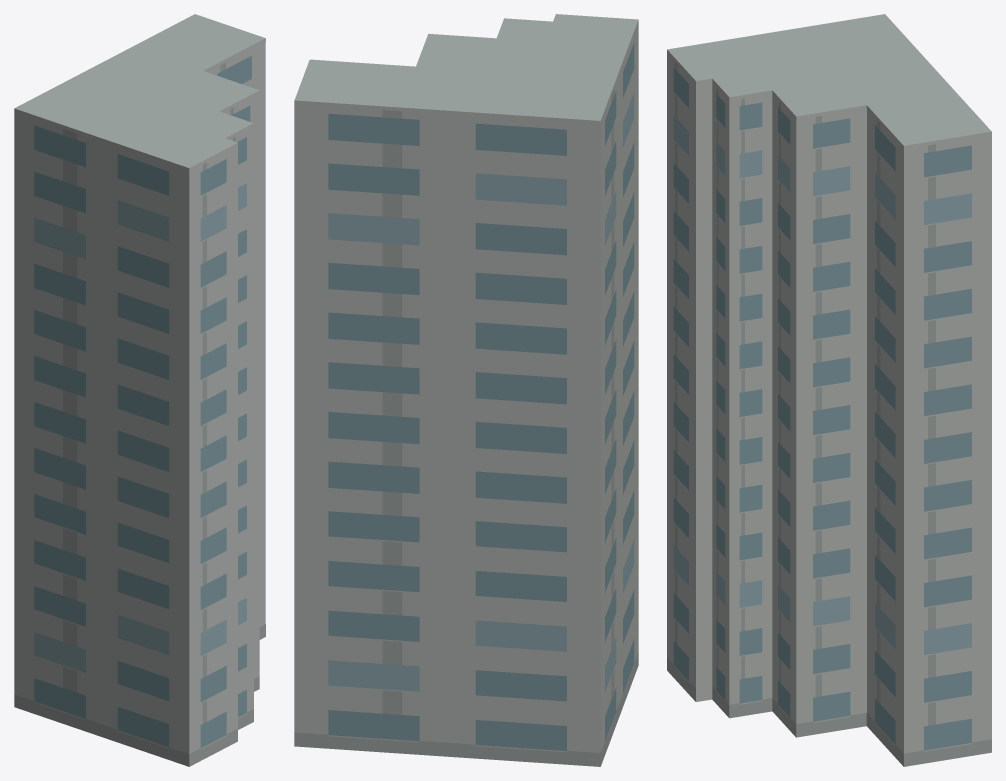
Rendered from residential-c4342a8f-d10b-4ac4-9958-bc4479cda097.glb.
3 views of the same model, side by side, from view 1: azimuth 30°, elevation 25°; view 2: azimuth 150°, elevation 25°; view 3: azimuth 270°, elevation 25° (orthographic). The views are drawn at different scales.
Visible parts, largest first — view 1: residential-c4342a8f-d10b-4ac4-9958-bc4479cda097.tmp; view 2: residential-c4342a8f-d10b-4ac4-9958-bc4479cda097.tmp; view 3: residential-c4342a8f-d10b-4ac4-9958-bc4479cda097.tmp.
Boxes of the visible parts, <box> form: residential-c4342a8f-d10b-4ac4-9958-bc4479cda097.tmp: <box>14,14,265,766</box>; residential-c4342a8f-d10b-4ac4-9958-bc4479cda097.tmp: <box>294,14,638,766</box>; residential-c4342a8f-d10b-4ac4-9958-bc4479cda097.tmp: <box>667,14,991,766</box>.
Size of the model in its own units: 19.6 by 43 by 20.39.
